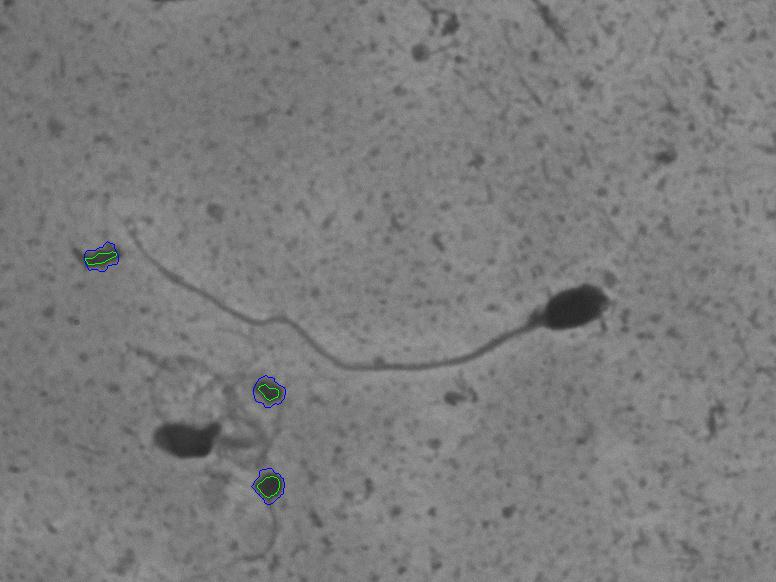Normal: (105, 186, 683, 380)
